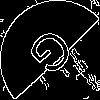G: (25, 25, 83, 85)
